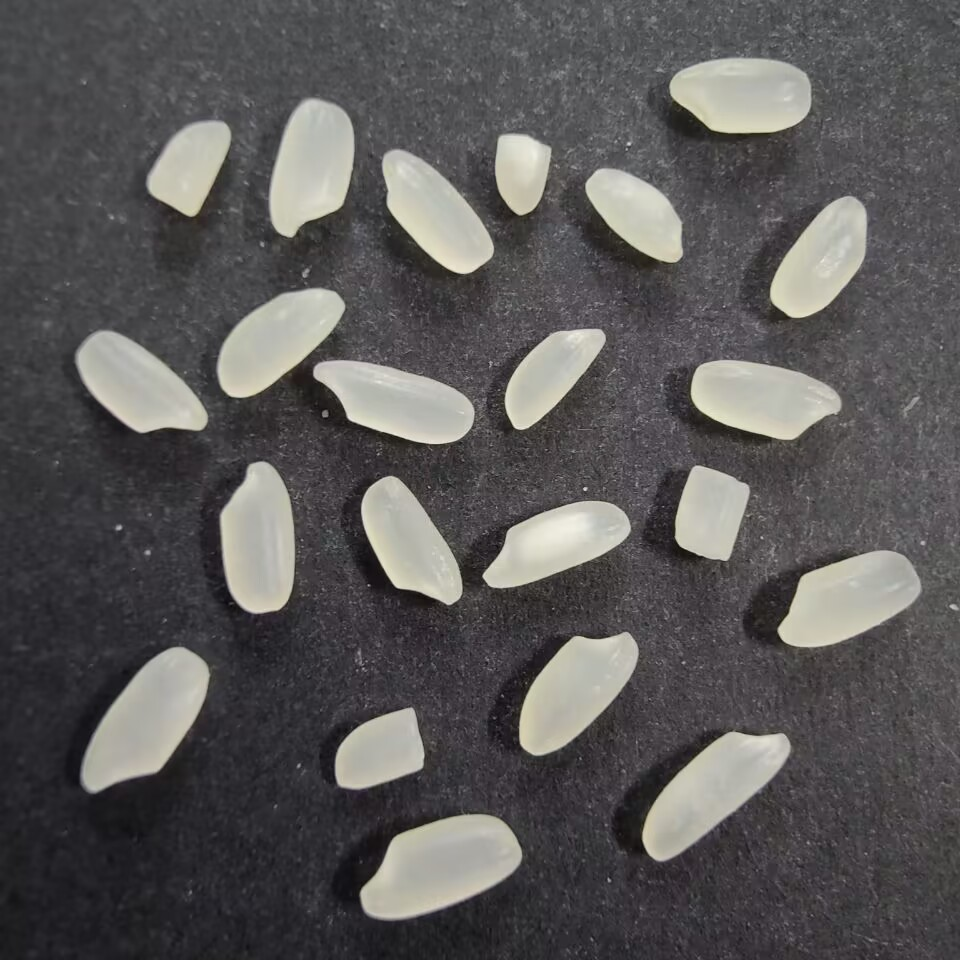broken: (143, 117, 237, 220), (331, 704, 429, 796), (668, 461, 752, 566), (486, 130, 557, 218)
rice: (77, 642, 216, 799), (641, 724, 793, 865), (356, 809, 525, 926), (516, 626, 642, 758), (70, 327, 212, 439), (773, 548, 926, 651), (310, 358, 479, 447), (355, 471, 463, 610), (217, 281, 344, 399), (377, 148, 494, 276), (479, 499, 634, 594), (688, 356, 845, 442), (268, 95, 358, 241), (216, 458, 297, 619), (767, 195, 868, 323), (665, 54, 814, 140), (504, 324, 607, 431), (582, 166, 685, 270)
